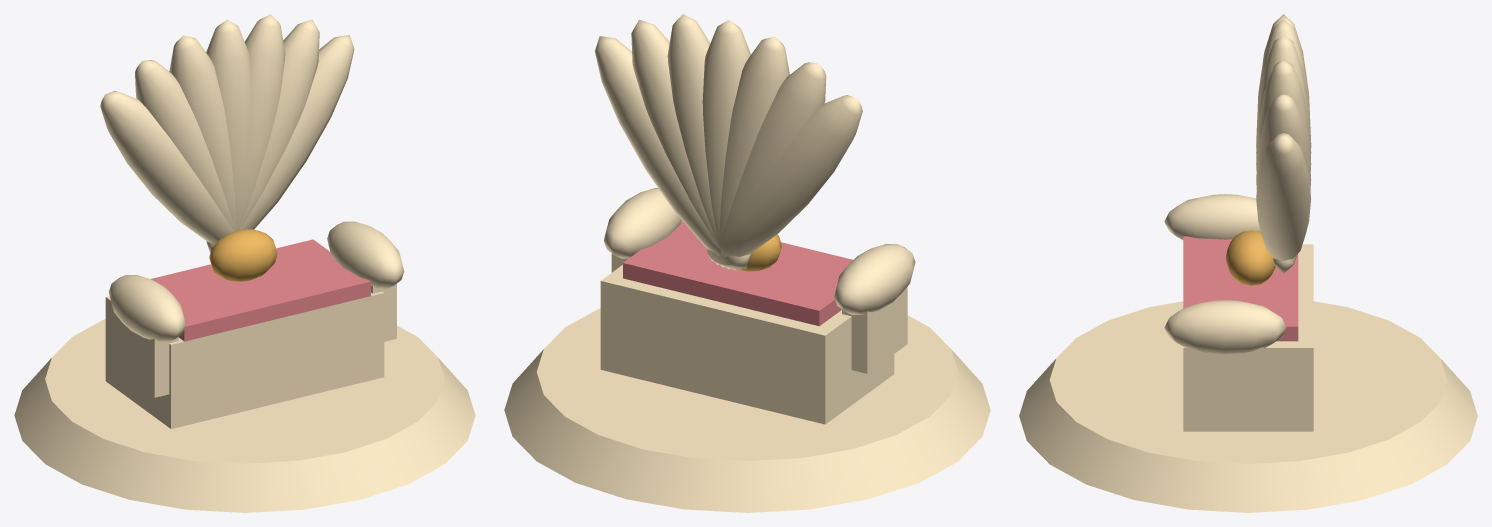
File: prop-hall-throne.glb
The picture shows the model from 3 angles, left to right: view 1: azimuth 30°, elevation 25°; view 2: azimuth 150°, elevation 25°; view 3: azimuth 270°, elevation 25°; orthographic projection. The views are drawn at different scales.
Visible parts, largest first — view 1: throne; view 2: throne; view 3: throne.
Boxes of the visible parts, x1,y1,x2,y2 form: throne: (14,14,475,512); throne: (504,14,990,512); throne: (1019,14,1477,512).
Size of the model in its own units: 3 by 2.75 by 3.
